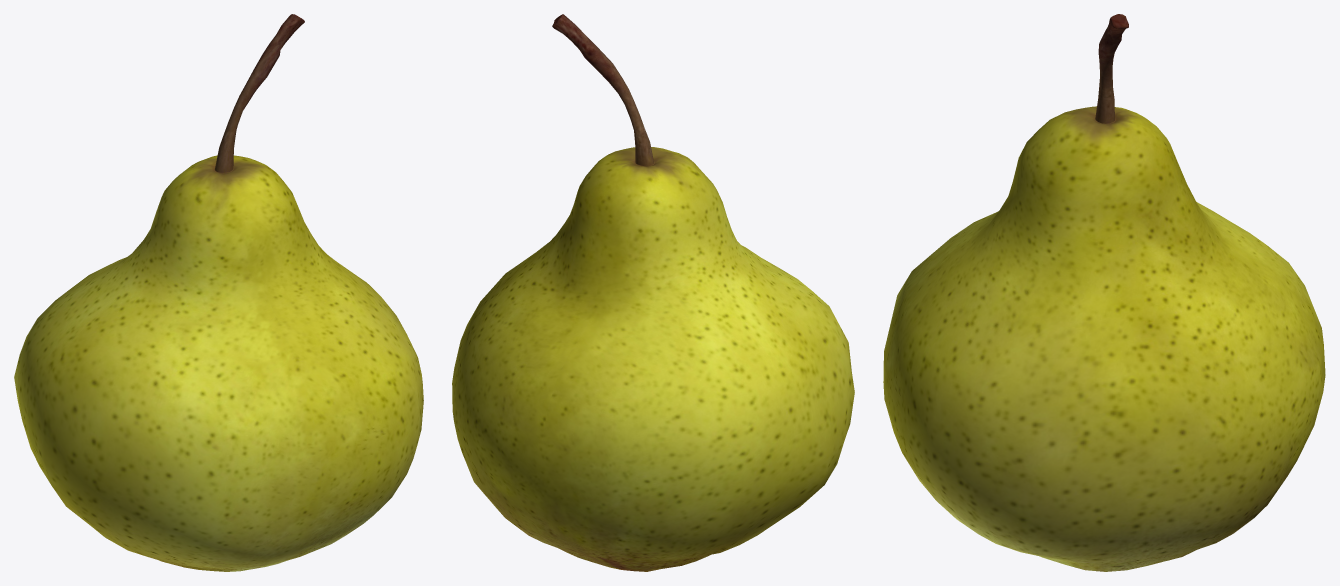
3 renders of one model, left to right at view 1: azimuth 30°, elevation 25°; view 2: azimuth 150°, elevation 25°; view 3: azimuth 270°, elevation 25°, orthographic. The views are drawn at different scales.
Visible parts, largest first — view 1: pear.002_Cube.002; view 2: pear.002_Cube.002; view 3: pear.002_Cube.002.
Part boxes in pixels (x1,y1,x2,y2): pear.002_Cube.002: (14, 14, 423, 571); pear.002_Cube.002: (452, 14, 854, 571); pear.002_Cube.002: (883, 14, 1325, 571).
Bounding box in the file's own units: 1 × 1.42 × 0.9914.
Materials: 3 (3 with a texture image).
